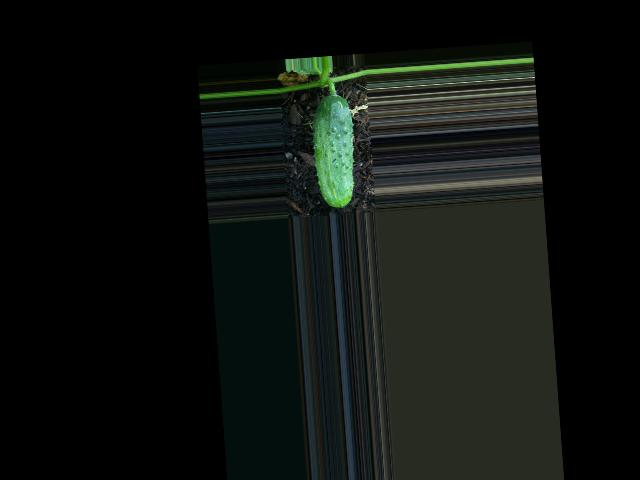cucumber: (309, 93, 358, 210)
